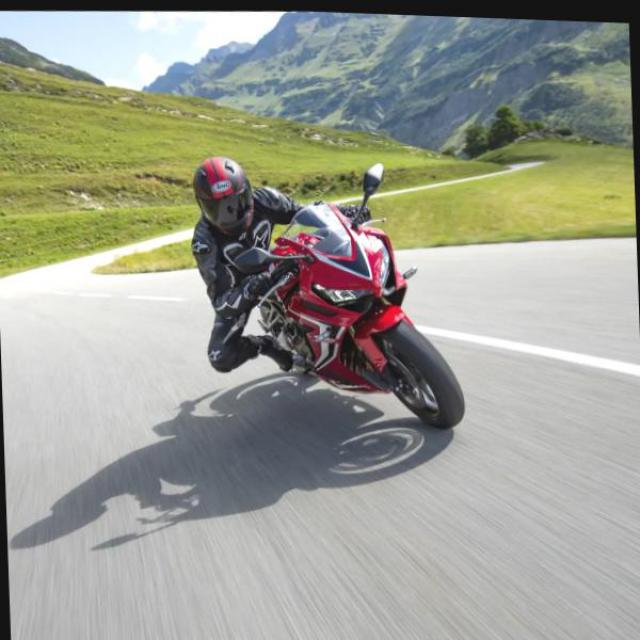CBR650R: (237, 191, 470, 436)
